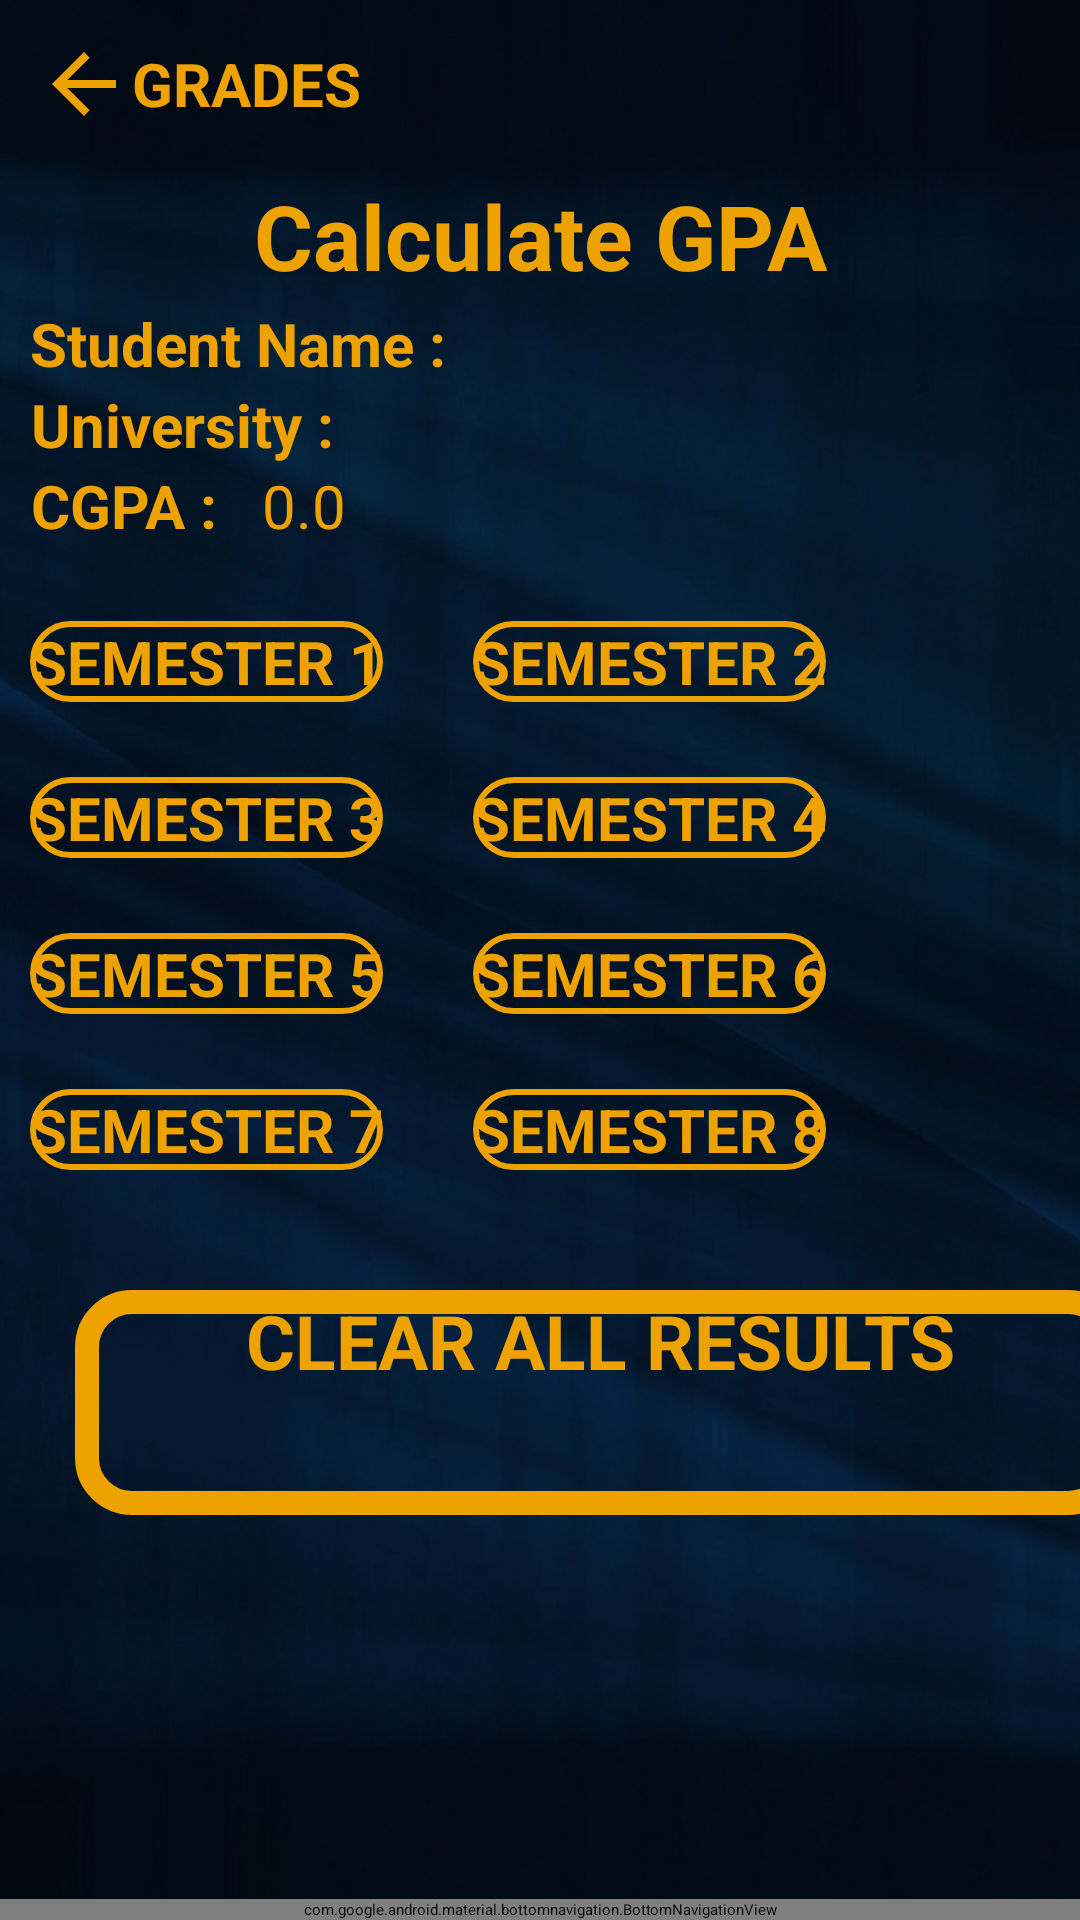

Icons on this 1080x1920 Android screen, each with the point to tap as [x,y]:
back: [84,84]
